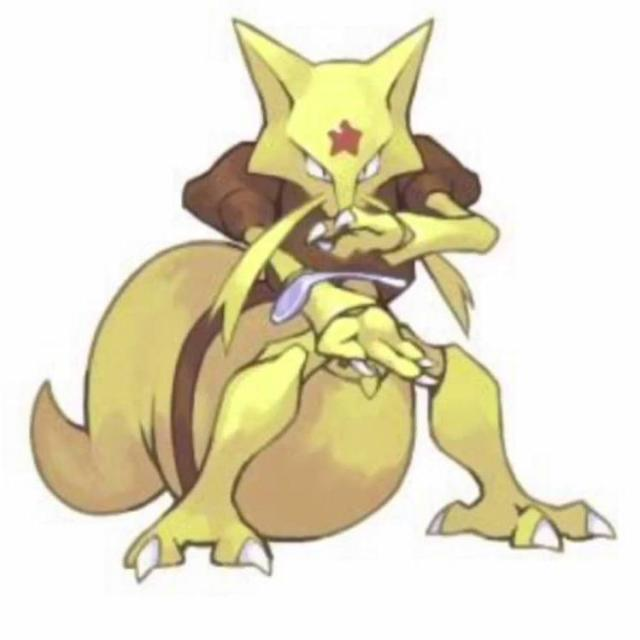Kadabra: (155, 17, 500, 559)
